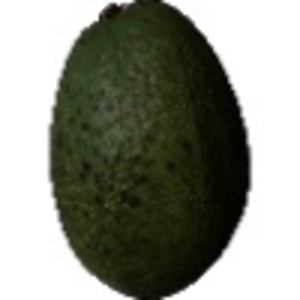abacate: (45, 2, 250, 297)
